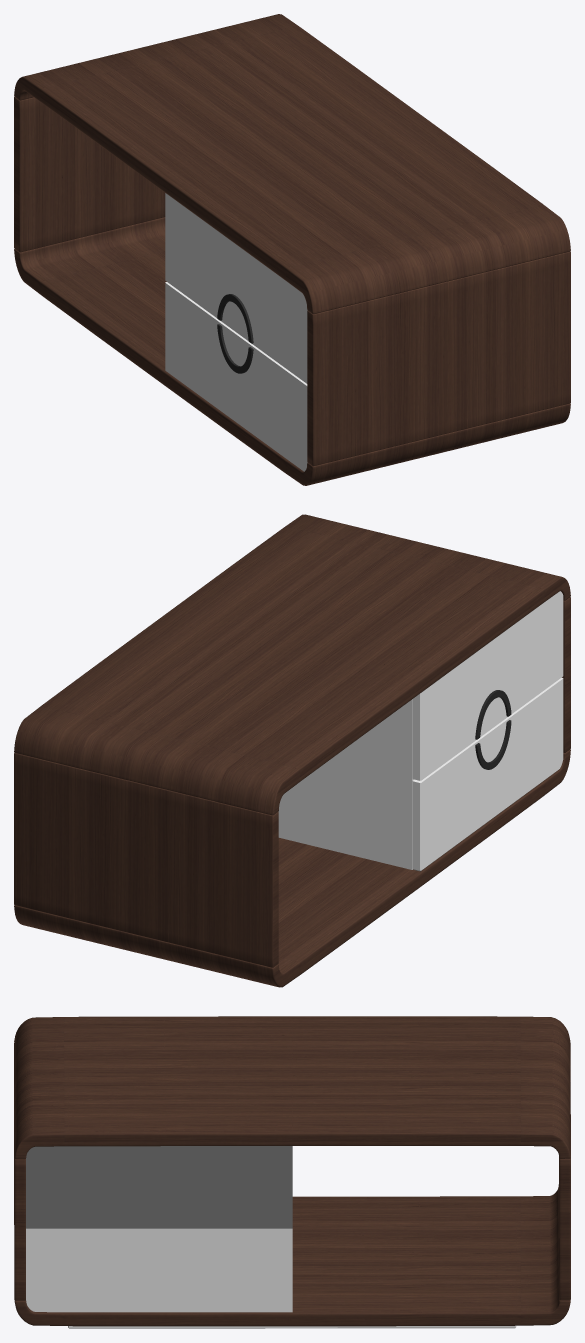
The model's file is mesa_sala.obj.
3 views of the same model, one above another, from view 1: azimuth 30°, elevation 25°; view 2: azimuth 150°, elevation 25°; view 3: azimuth 270°, elevation 25° (orthographic). The views are drawn at different scales.
Visible parts, largest first — view 1: Center_Table:Plane011; view 2: Center_Table:Plane011; view 3: Center_Table:Plane011.
Boxes of the visible parts, x1,y1,x2,y2 form: Center_Table:Plane011: (14,14,570,485); Center_Table:Plane011: (14,514,570,987); Center_Table:Plane011: (14,1016,570,1328).
Bounding box in the file's own units: 5.27 × 4.29 × 10.51.
Materials: 6 (5 with a texture image).
